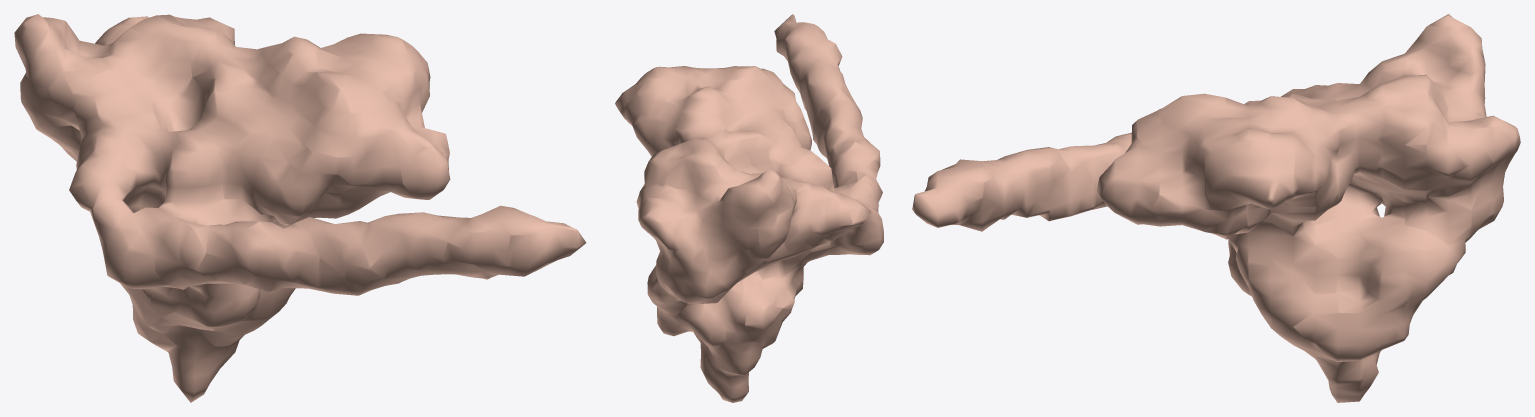
The model's file is moezin.dae.
3 views of the same model, side by side, from view 1: azimuth 30°, elevation 25°; view 2: azimuth 150°, elevation 25°; view 3: azimuth 270°, elevation 25° (orthographic). The views are drawn at different scales.
Parts seen in each view (by area): view 1: CoarseMS_1e5w; view 2: CoarseMS_1e5w; view 3: CoarseMS_1e5w.
Part boxes in pixels (box(x1,y1,x2,y2)): CoarseMS_1e5w: box(14, 14, 586, 402); CoarseMS_1e5w: box(615, 14, 883, 402); CoarseMS_1e5w: box(912, 14, 1520, 402).
Size of the model in its own units: 57.38 by 59.42 by 95.27.
